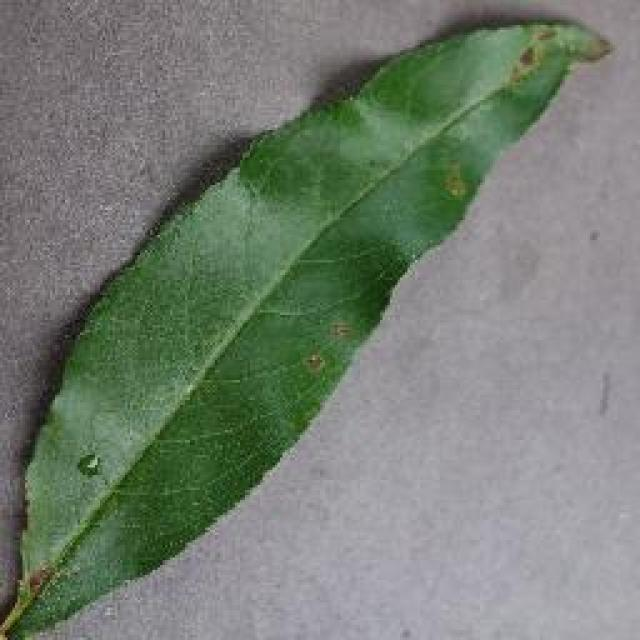Peach_Bacterial_Spot: (252, 290, 393, 435)
